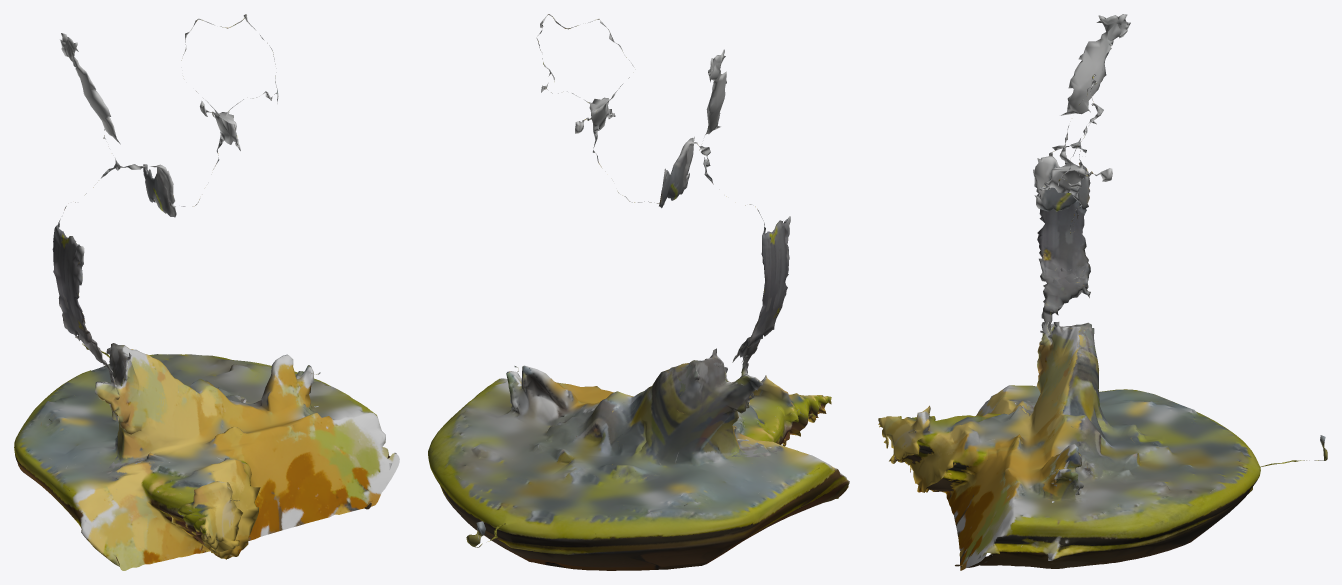
File: tree 2-16-47-15.fbx
3 views of the same model, side by side, from view 1: azimuth 30°, elevation 25°; view 2: azimuth 150°, elevation 25°; view 3: azimuth 270°, elevation 25° (orthographic). The views are drawn at different scales.
Parts seen in each view (by area): view 1: lowpoly; view 2: lowpoly; view 3: lowpoly.
Boxes of the visible parts, x1,y1,x2,y2 form: lowpoly: (14,14,399,570); lowpoly: (428,14,849,570); lowpoly: (878,14,1327,570).
Bounding box in the file's own units: 147 × 198 × 179.
Materials: 1 (1 with a texture image).
